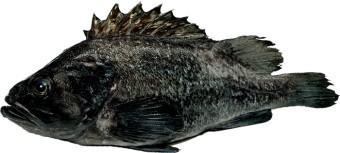fish: (0, 3, 339, 152)
